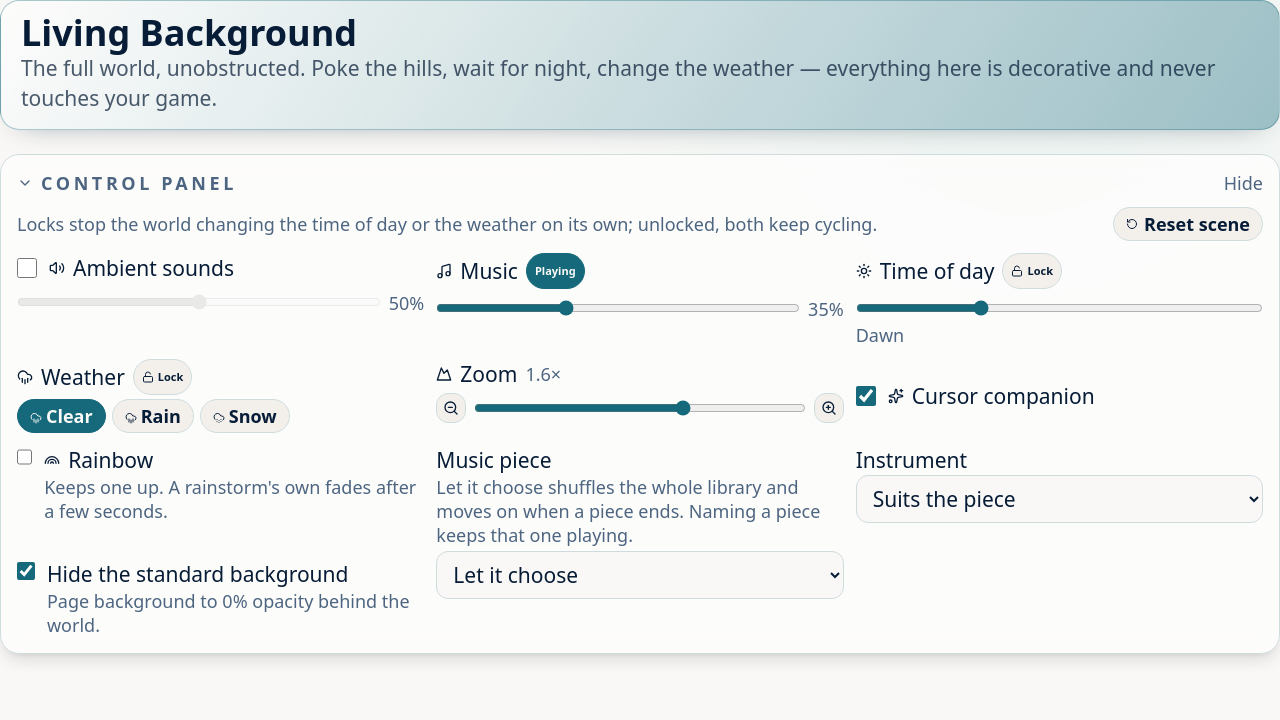
Test case: LivingBackground reset scene › shows the zoom readout and resets zoom, locks, visibility and companion
Expected: the text with test id "living-bg-zoom-readout" reads "1.6×", [525, 362, 561, 386]
Click the checkbox labelled "Cursor companion".
click(866, 396)  # box [856, 386, 876, 406]
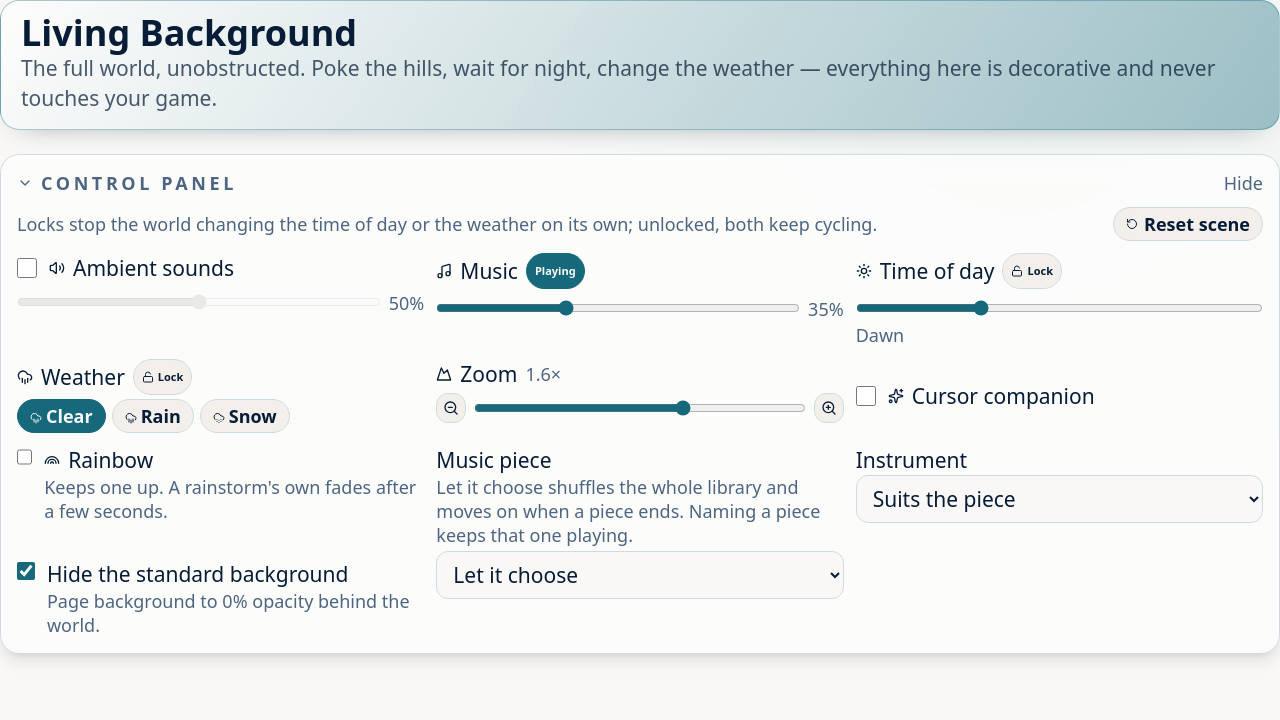
Click the button with test id "living-bg-reset".
click(1188, 224)  # box [1113, 207, 1263, 241]
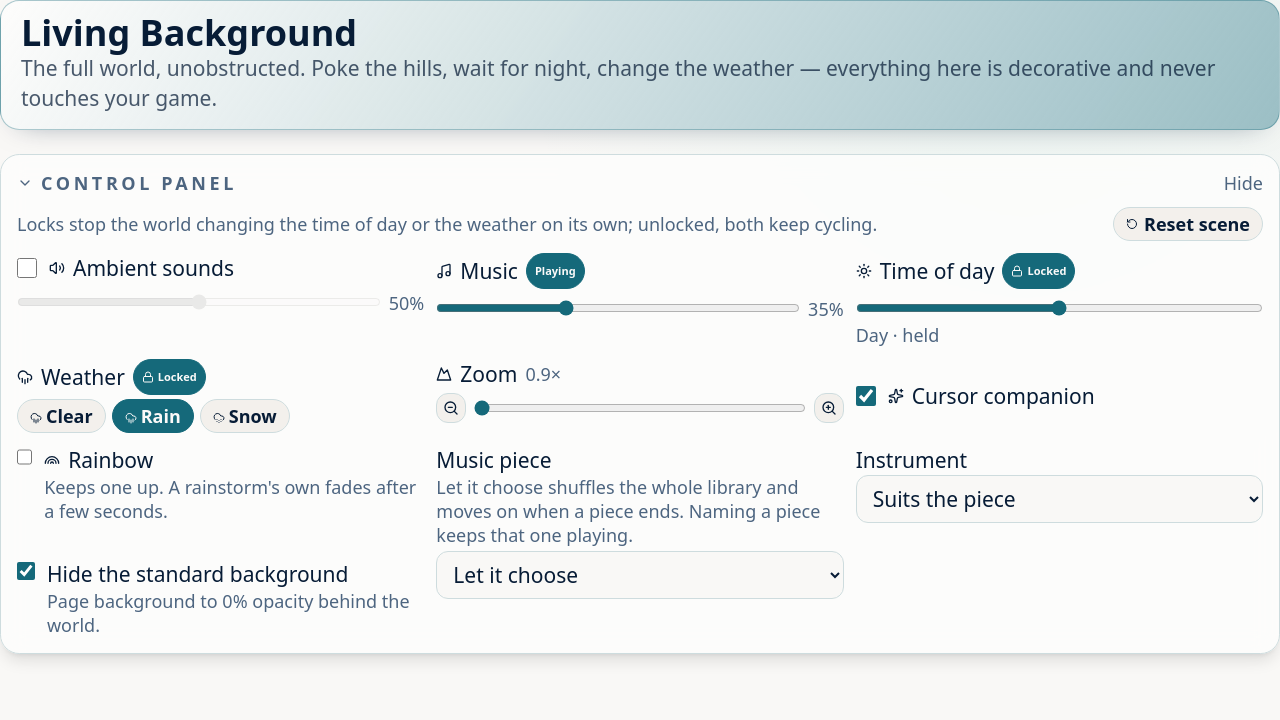
Expected: the checkbox labelled "Cursor companion" is checked, [856, 386, 876, 406]
Expected: the text with test id "living-bg-zoom-readout" reads "0.9×", [525, 362, 561, 386]
